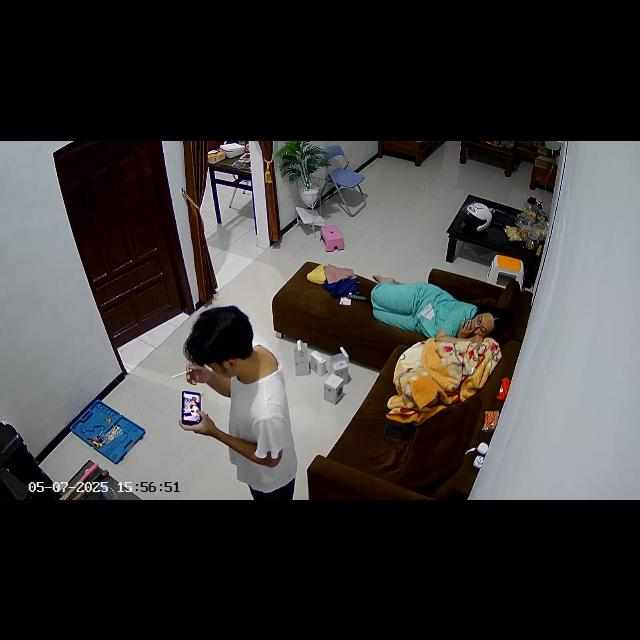rokok: (171, 366, 195, 378)
